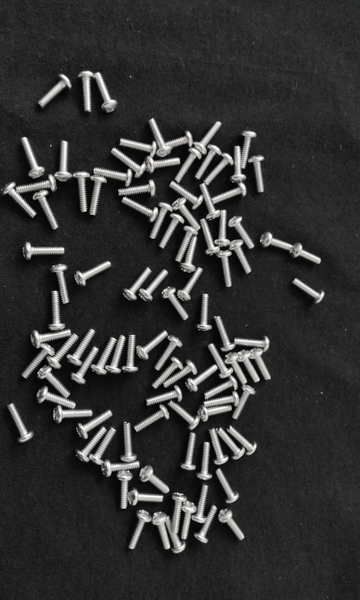shortscrew: (0, 182, 37, 220), (37, 73, 73, 112), (5, 403, 34, 448), (21, 343, 56, 380), (46, 334, 80, 370), (75, 427, 108, 464), (112, 148, 148, 179), (33, 190, 60, 231), (67, 328, 96, 366), (71, 347, 100, 385), (127, 510, 153, 552), (38, 366, 71, 399), (203, 153, 235, 187), (168, 181, 204, 211), (94, 71, 119, 114), (21, 137, 46, 180), (76, 411, 113, 440), (136, 329, 170, 360), (121, 267, 152, 301), (90, 428, 117, 467), (217, 427, 247, 462), (174, 148, 203, 184), (194, 505, 220, 545), (133, 405, 170, 433), (91, 338, 118, 376), (139, 269, 169, 303), (161, 287, 189, 323), (147, 118, 172, 158), (226, 426, 258, 457), (168, 401, 201, 431), (74, 261, 112, 287), (196, 143, 222, 181), (195, 119, 223, 154), (177, 267, 204, 303), (228, 215, 255, 251), (159, 213, 185, 250), (218, 510, 247, 543), (150, 202, 175, 240), (37, 386, 78, 409), (215, 468, 240, 505), (209, 343, 234, 380), (187, 365, 220, 393), (31, 327, 72, 349), (140, 466, 171, 495), (233, 384, 257, 421), (175, 227, 199, 264), (122, 198, 159, 222), (293, 279, 327, 305), (229, 239, 252, 277), (158, 130, 194, 154), (164, 517, 187, 554), (205, 376, 239, 401), (235, 350, 260, 384), (16, 175, 58, 195), (93, 167, 133, 188), (173, 198, 200, 229), (146, 385, 184, 407), (199, 184, 221, 222), (214, 316, 237, 352), (88, 175, 108, 216), (53, 405, 94, 425), (106, 337, 127, 376), (22, 242, 65, 261), (169, 493, 188, 535), (224, 353, 248, 386), (249, 348, 272, 382), (52, 264, 71, 305), (152, 511, 171, 552), (119, 422, 138, 463), (208, 429, 229, 466), (192, 484, 211, 524), (74, 171, 92, 213), (200, 219, 221, 255), (78, 70, 95, 114), (55, 139, 72, 183), (179, 501, 198, 540), (101, 460, 140, 479), (240, 130, 259, 169), (122, 335, 141, 374), (119, 180, 158, 199), (260, 232, 292, 255), (212, 183, 247, 204), (195, 294, 214, 332), (120, 138, 158, 157), (49, 292, 67, 331), (216, 250, 234, 289), (117, 470, 134, 511), (196, 442, 214, 480), (179, 433, 197, 471), (248, 154, 266, 192), (291, 243, 322, 265), (199, 404, 234, 423), (146, 156, 181, 175), (234, 335, 272, 352), (181, 235, 198, 273), (129, 489, 164, 507), (231, 146, 247, 184), (204, 392, 241, 408), (215, 210, 231, 247)
